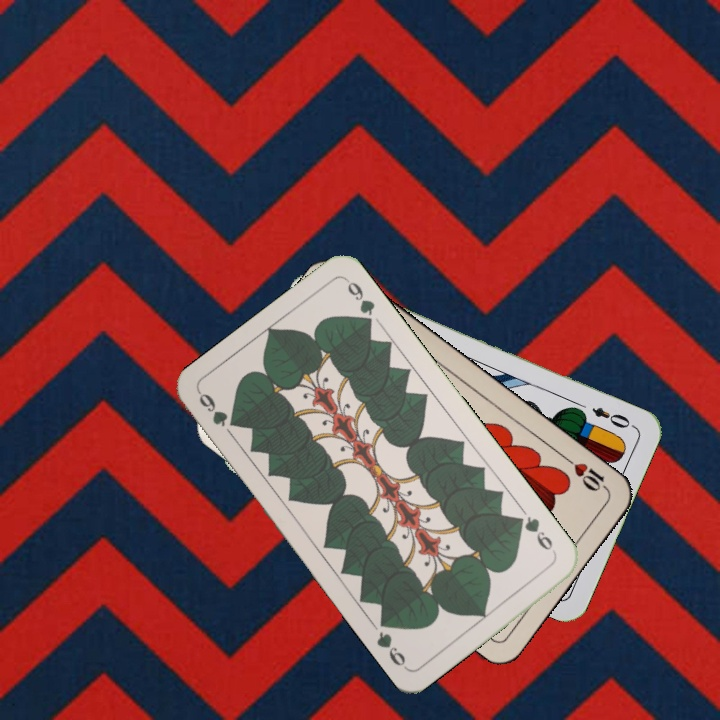EO: (588, 403, 637, 431)
G9: (194, 388, 240, 430), (511, 512, 556, 554)
H10: (560, 452, 611, 494)
